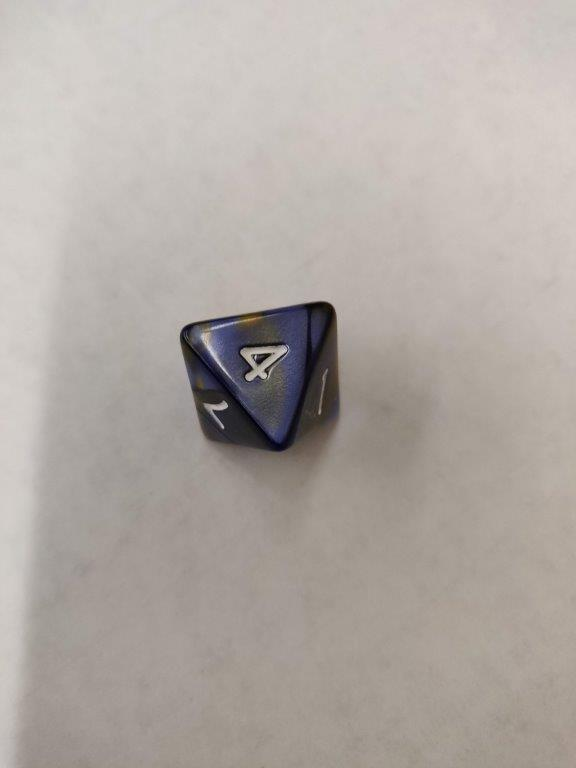d8-4: (179, 300, 347, 444)
